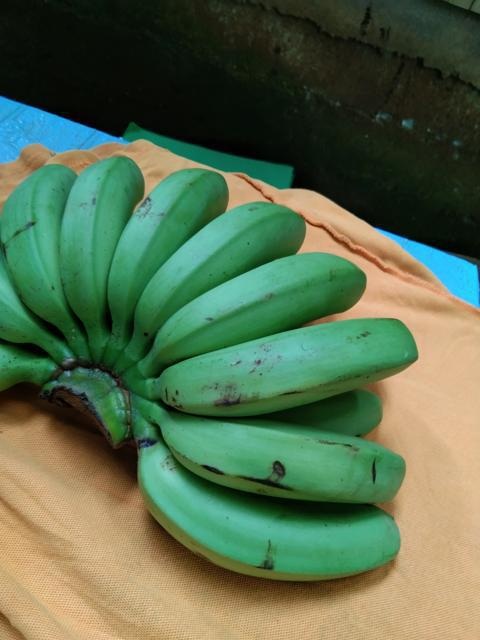freshunripe: (130, 193, 305, 346), (160, 247, 376, 358), (55, 142, 149, 310)
